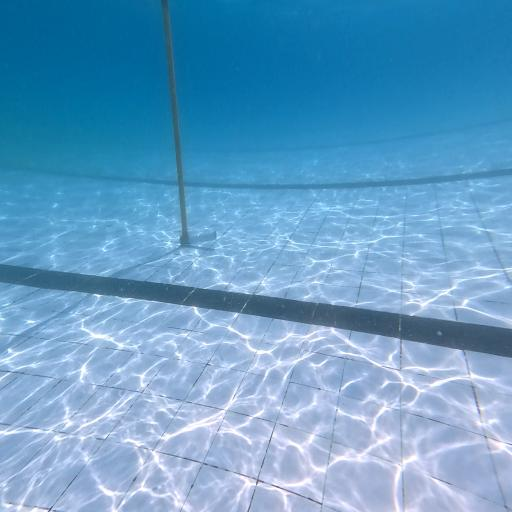pole_gate: (161, 0, 188, 246)
